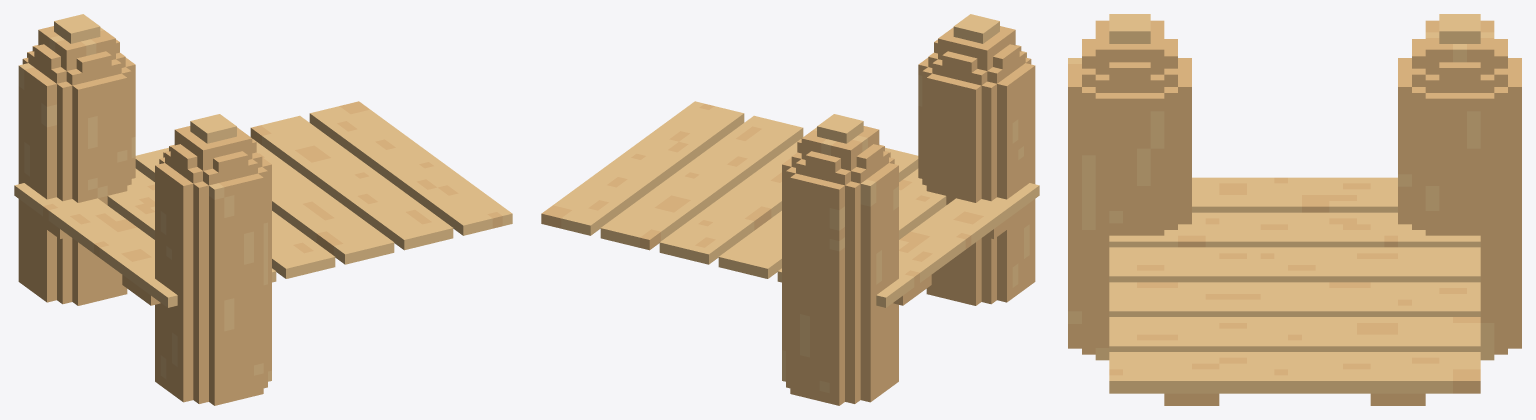
The model's file is Puente.fbx.
3 views of the same model, side by side, from view 1: azimuth 30°, elevation 25°; view 2: azimuth 150°, elevation 25°; view 3: azimuth 270°, elevation 25° (orthographic). The views are drawn at different scales.
Parts seen in each view (by area): view 1: puente_35x25x33; view 2: puente_35x25x33; view 3: puente_35x25x33.
Part boxes in pixels (x1,y1,x2,y2): puente_35x25x33: (14,14,512,405); puente_35x25x33: (541,14,1039,405); puente_35x25x33: (1068,14,1521,405).
Bounding box in the file's own units: 1029 × 735 × 971.
